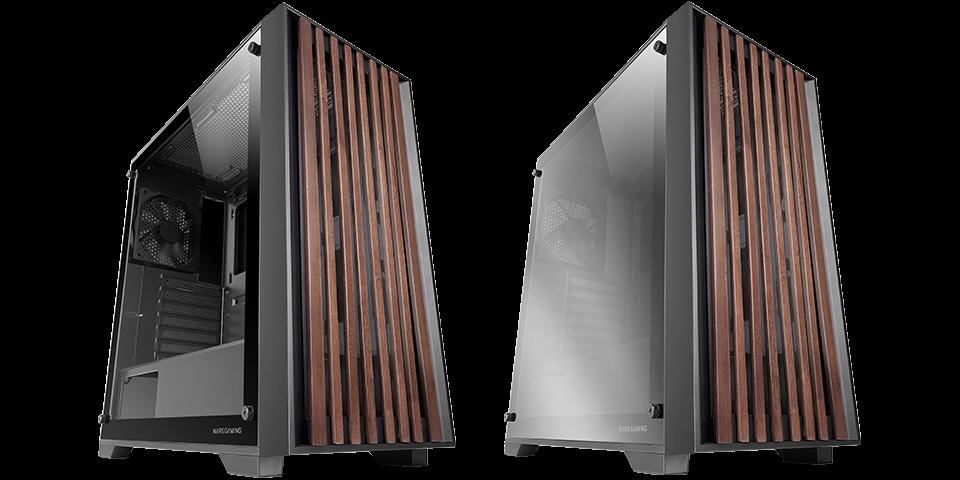pc: (91, 0, 463, 480), (497, 3, 863, 480)
